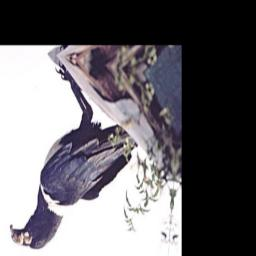Crow: (8, 56, 148, 256)
